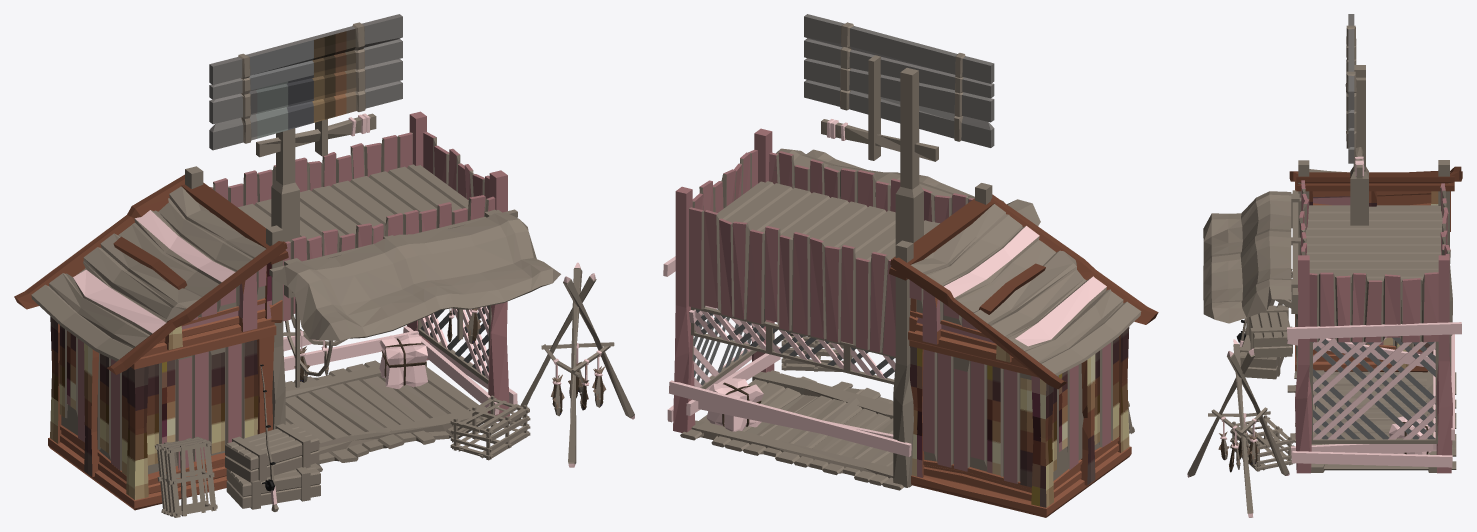
The model's file is SM_Bld_Shop_03.glb.
3 views of the same model, side by side, from view 1: azimuth 30°, elevation 25°; view 2: azimuth 150°, elevation 25°; view 3: azimuth 270°, elevation 25° (orthographic). The views are drawn at different scales.
Parts seen in each view (by area): view 1: SM_Bld_Shop_03_00; view 2: SM_Bld_Shop_03_00; view 3: SM_Bld_Shop_03_00.
Boxes of the visible parts, x1,y1,x2,y2 form: SM_Bld_Shop_03_00: (14,14,634,517); SM_Bld_Shop_03_00: (663,14,1158,517); SM_Bld_Shop_03_00: (1187,14,1462,517).
Bounding box in the file's own units: 8.73 × 6.83 × 4.78.
Materials: 1 (1 with a texture image).
